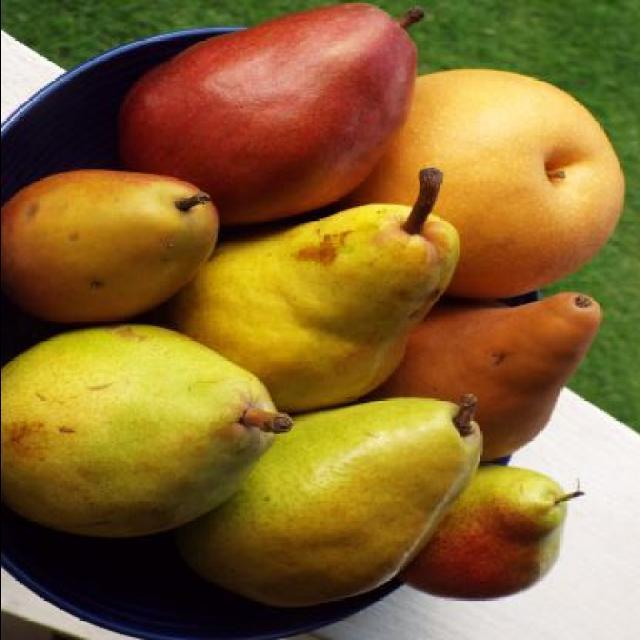Pear: (160, 394, 484, 606), (116, 1, 414, 230), (169, 198, 463, 416), (0, 321, 271, 541), (383, 292, 595, 460), (1, 171, 221, 320), (398, 462, 566, 604)
